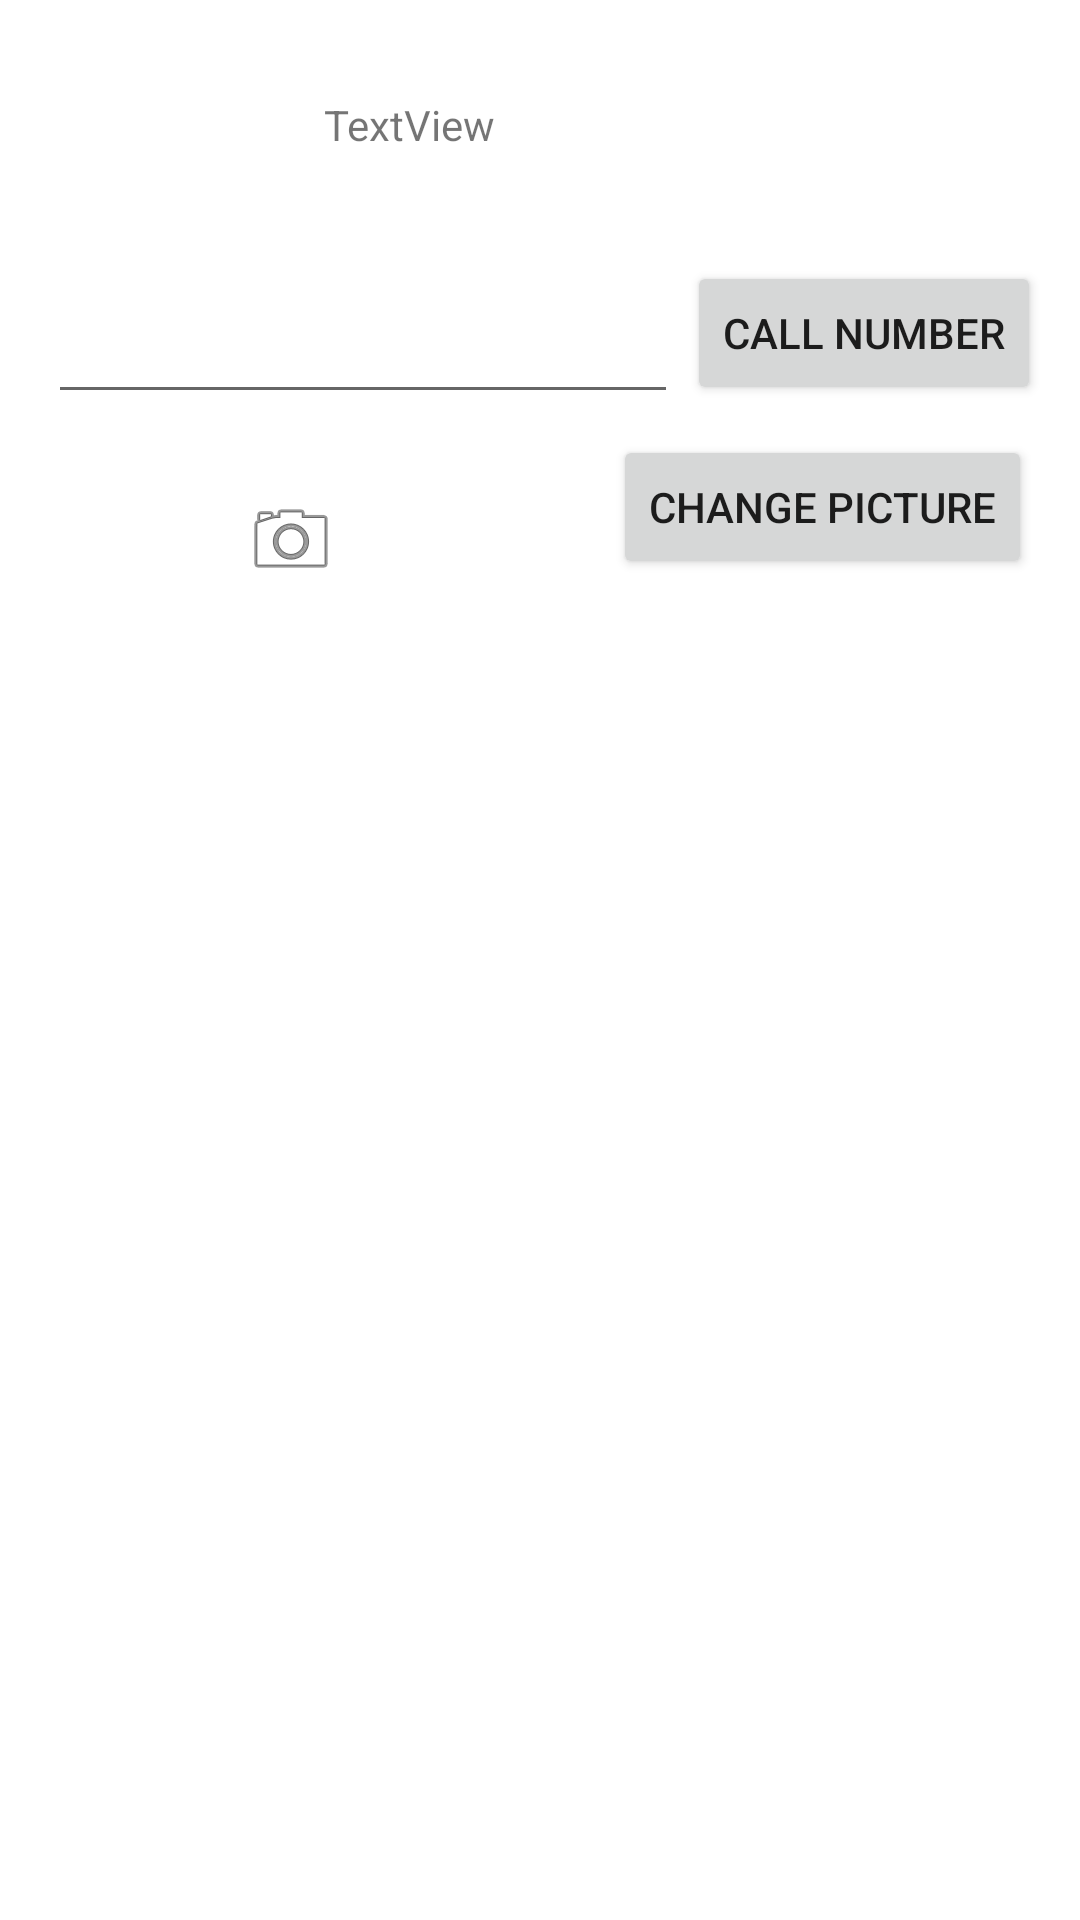

Screen size 1080*1920. Icon name, then its center in pixels as [x,y]:
camera: [291,538]
